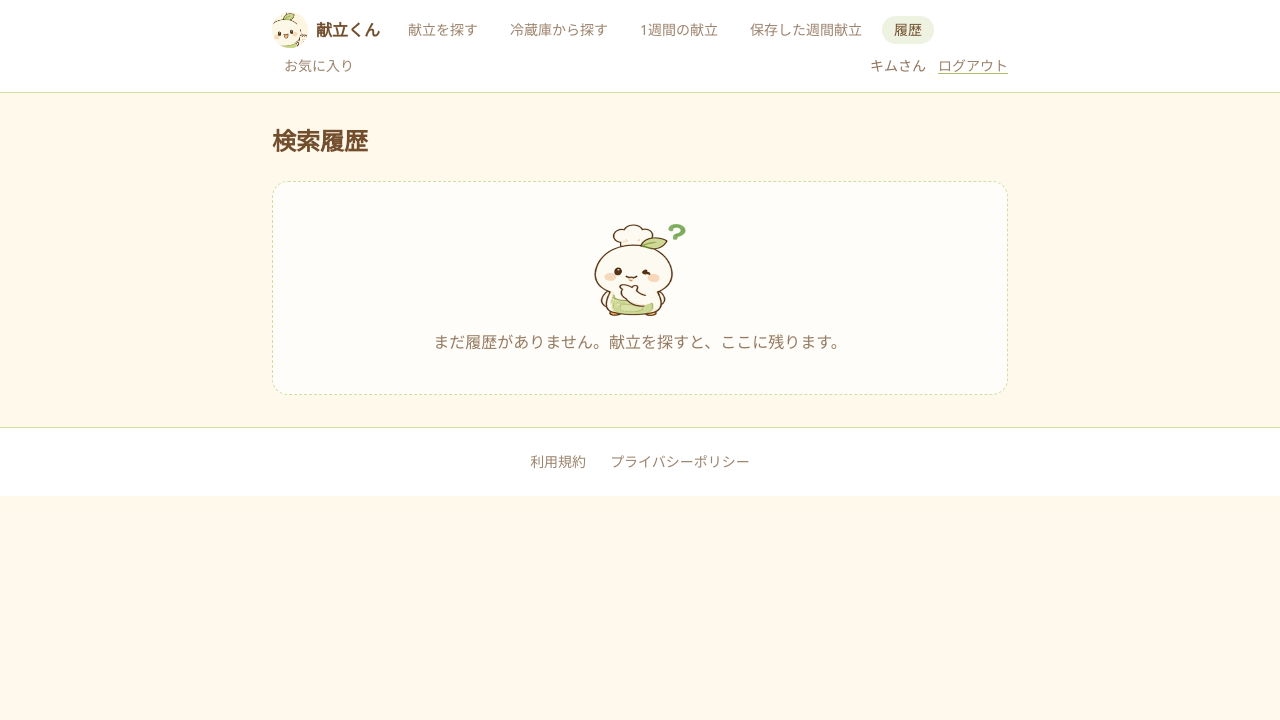
Test: 認証済みのとき › ログアウト後は履歴画面がログインへ誘導される
Expected: the heading "検索履歴" is shown, [272,125,368,157]
Click the button "ログアウト": (973, 66) [938,56,1008,76]
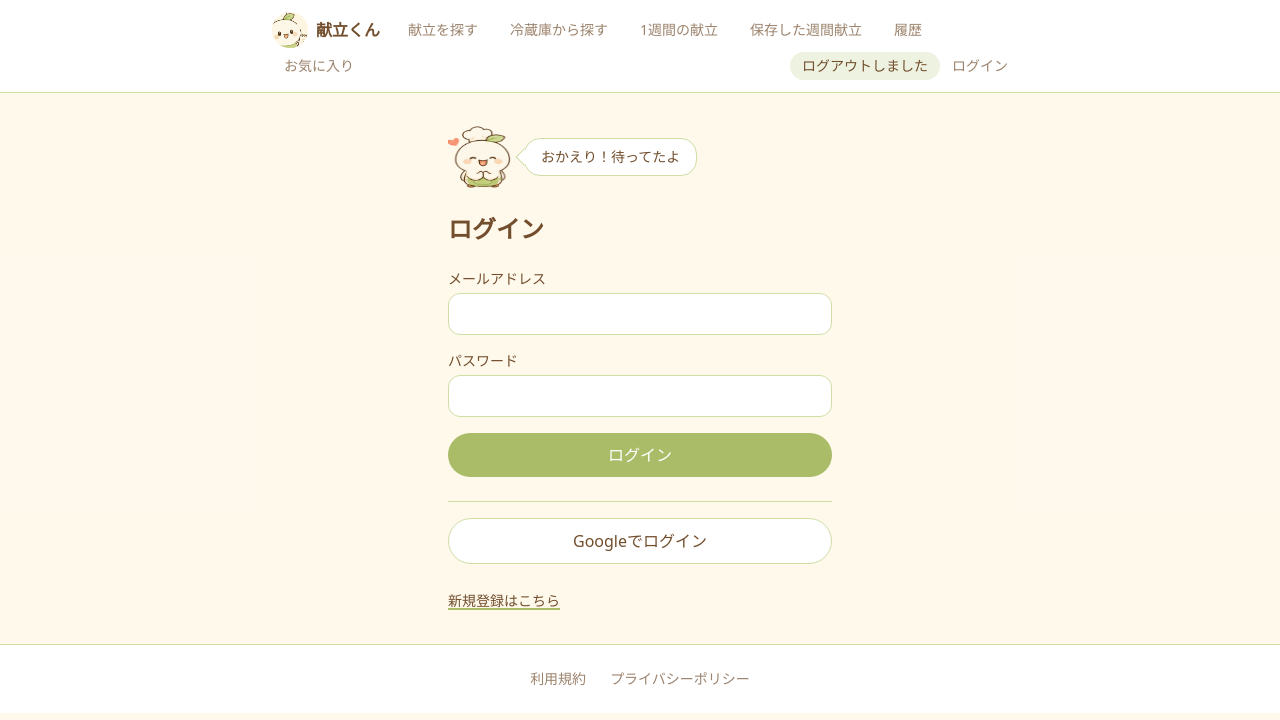
Expected: the heading "ログイン" is shown, [448,212,544,245]
